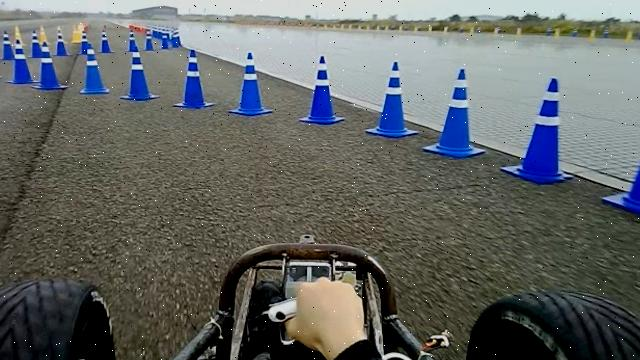blue cone: (501, 76, 574, 184), (422, 67, 486, 158), (365, 61, 419, 138), (298, 55, 345, 124), (602, 142, 640, 218), (229, 51, 273, 116), (172, 49, 215, 109), (119, 46, 161, 100), (32, 39, 69, 90), (6, 39, 39, 84), (80, 48, 110, 94)
